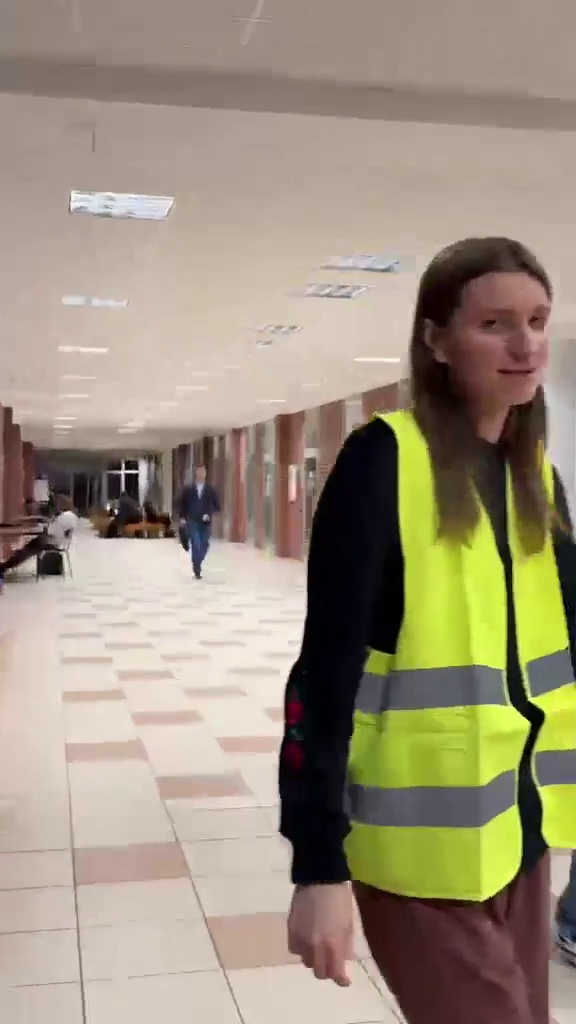no vest: (2, 489, 85, 583), (180, 461, 218, 576)
vest: (277, 229, 568, 1021)
